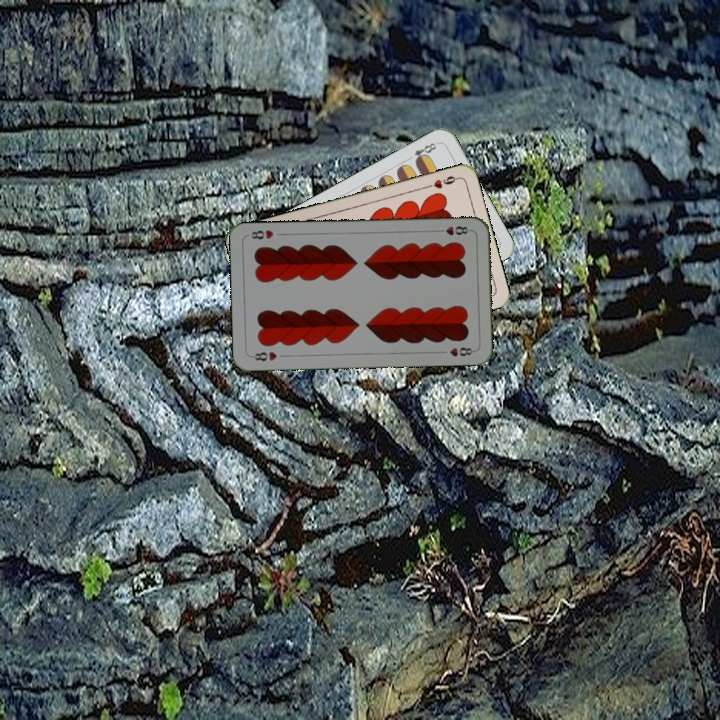E8: (403, 138, 441, 166)
H8: (433, 222, 473, 238), (247, 347, 280, 363)
H9: (421, 172, 461, 191)
